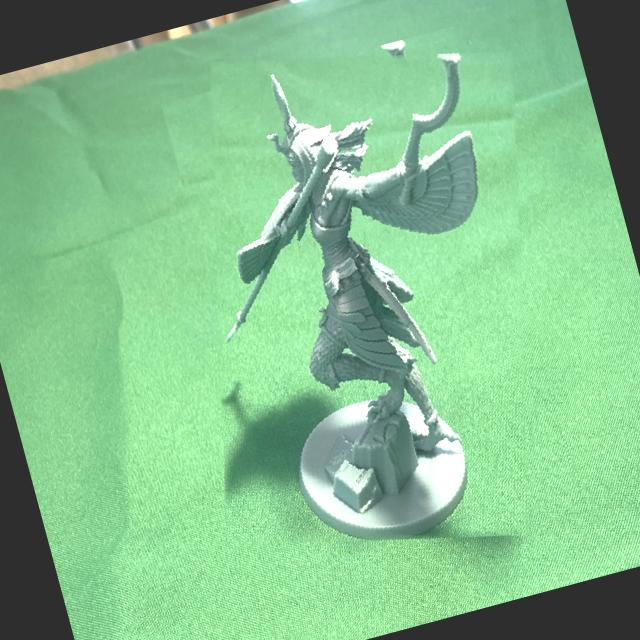isis: (133, 6, 607, 592)
